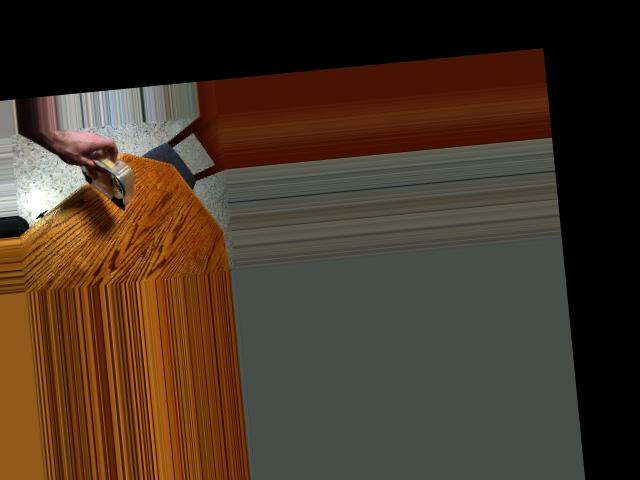cheese: (59, 142, 149, 211)
